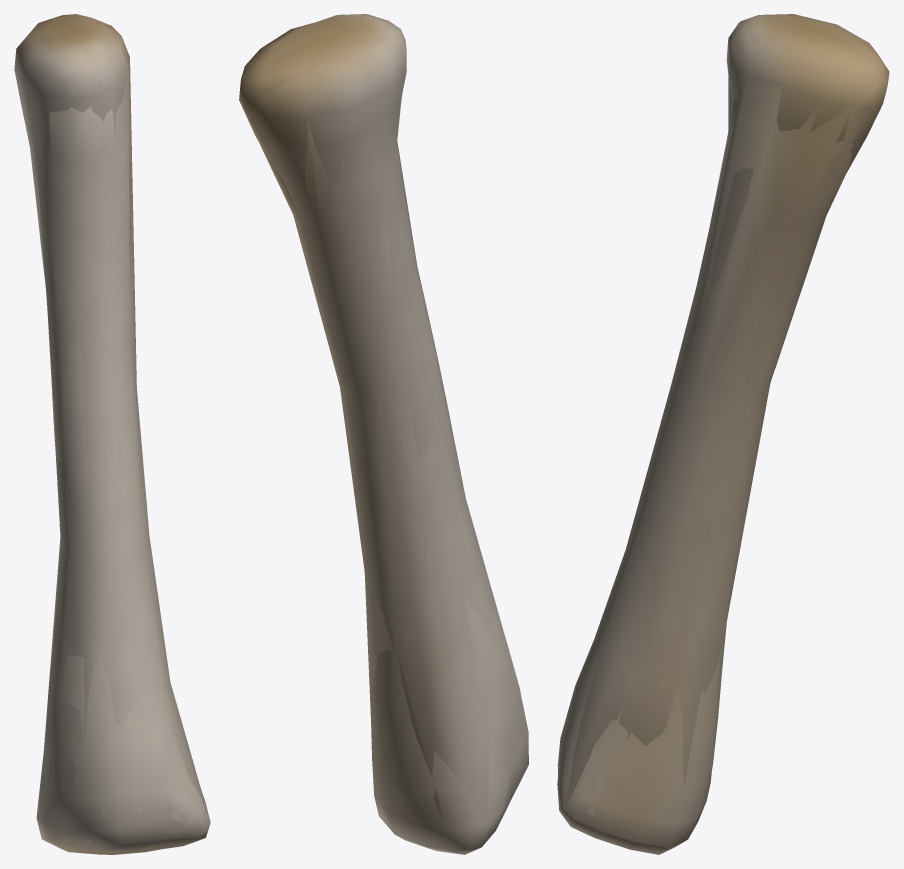
The model's file is R metatarsi quartum.fbx.
3 renders of one model, left to right at view 1: azimuth 30°, elevation 25°; view 2: azimuth 150°, elevation 25°; view 3: azimuth 270°, elevation 25°, orthographic. The views are drawn at different scales.
Visible parts, largest first — view 1: R metatarsi quartum low, R metatarsi quartum, R metatarsi quartum high; view 2: R metatarsi quartum low, R metatarsi quartum, R metatarsi quartum high; view 3: R metatarsi quartum low, R metatarsi quartum, R metatarsi quartum high.
Boxes of the visible parts, x1,y1,x2,y2 form: R metatarsi quartum low: (19, 15, 209, 853); R metatarsi quartum: (14, 14, 210, 854); R metatarsi quartum high: (25, 32, 195, 852); R metatarsi quartum low: (243, 23, 519, 853); R metatarsi quartum: (239, 14, 528, 854); R metatarsi quartum high: (252, 32, 518, 850); R metatarsi quartum low: (564, 14, 887, 853); R metatarsi quartum: (557, 14, 889, 854); R metatarsi quartum high: (562, 15, 872, 839).
Size of the model in its own units: 1.19 by 5.96 by 2.17.
